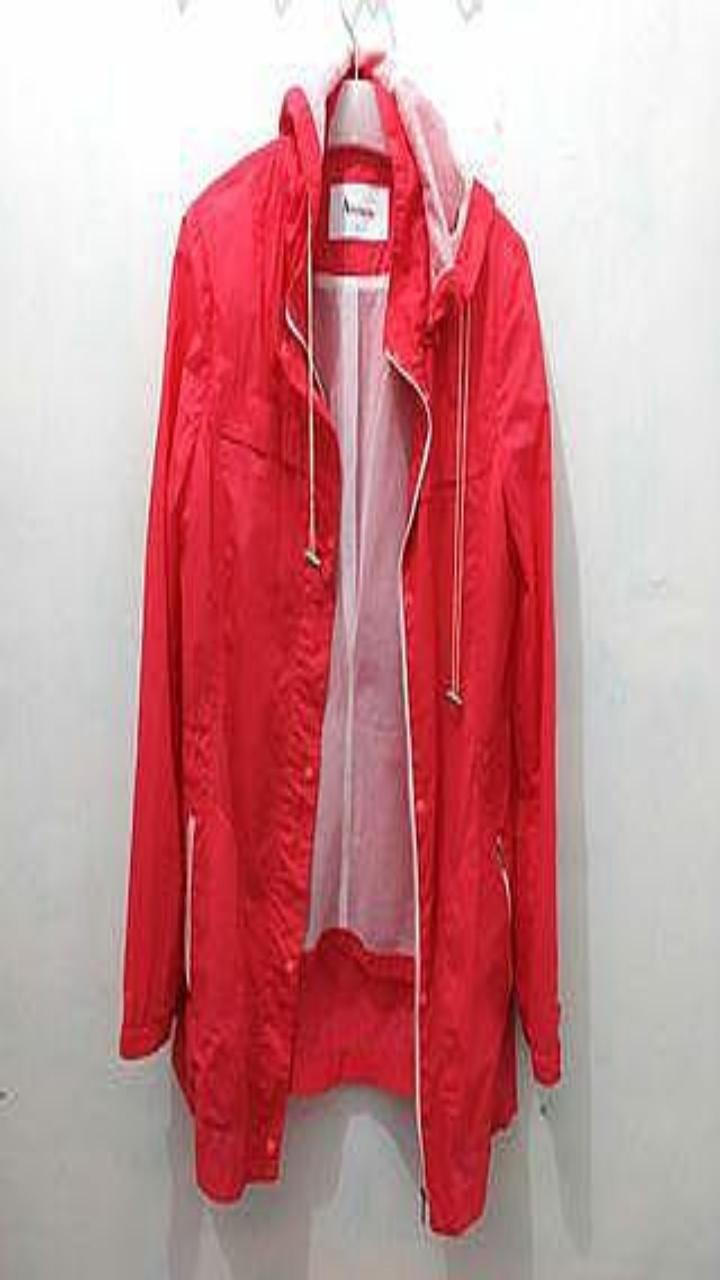Sports_Jacket: (119, 52, 560, 1234)
